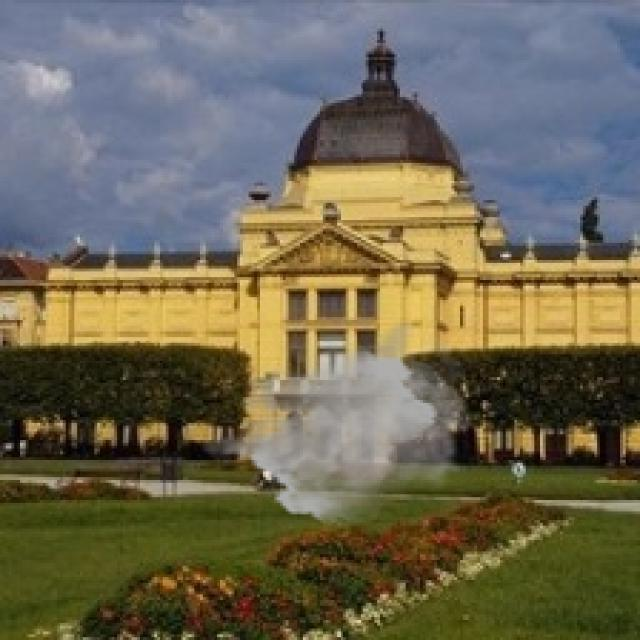smoke: (197, 320, 474, 526)
